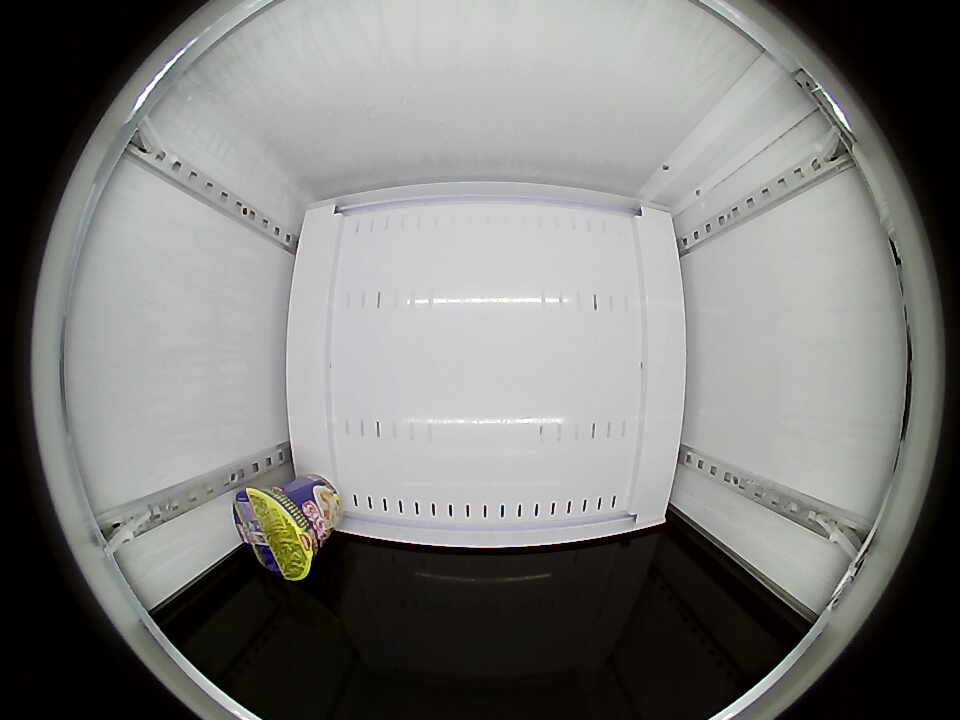heweidao: (231, 485, 316, 580)
